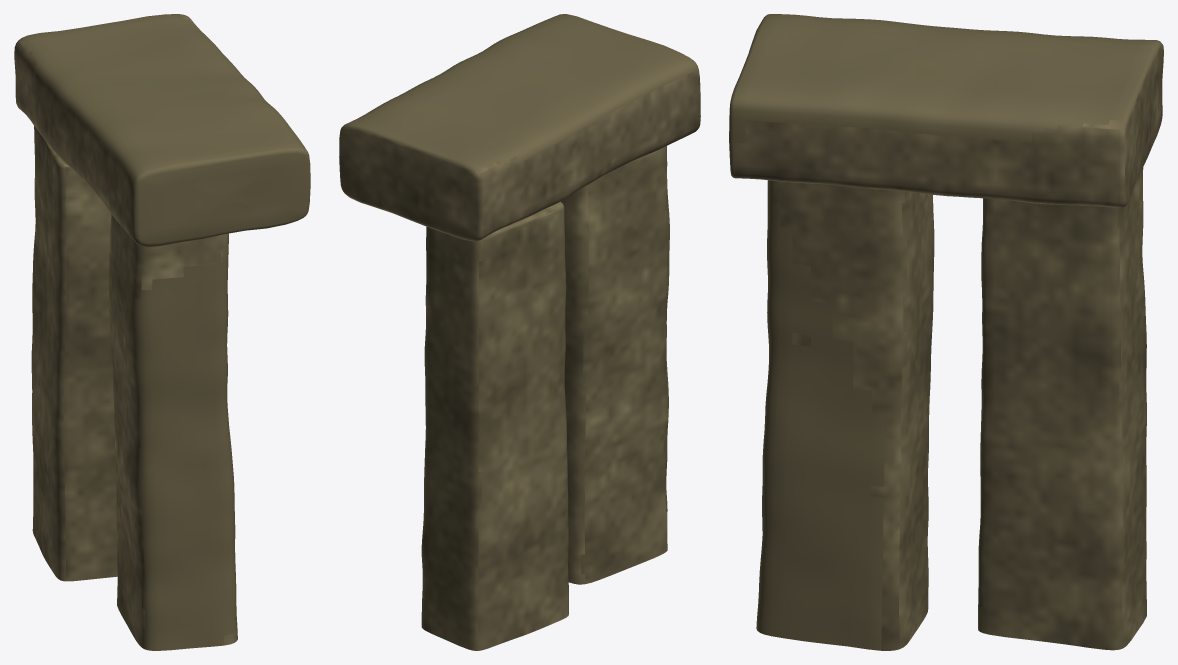
File: ZonHenge10.glb
The picture shows the model from 3 angles, left to right: view 1: azimuth 30°, elevation 25°; view 2: azimuth 150°, elevation 25°; view 3: azimuth 270°, elevation 25°; orthographic projection. The views are drawn at different scales.
Visible parts, largest first — view 1: ZonHenge10; view 2: ZonHenge10; view 3: ZonHenge10.
Part boxes in pixels (box(x1,y1,x2,y2)): ZonHenge10: box(14, 14, 310, 650); ZonHenge10: box(339, 14, 700, 650); ZonHenge10: box(729, 14, 1163, 650).
Bounding box in the file's own units: 2.21 × 4.94 × 3.39.
Materials: 2 (1 with a texture image).
